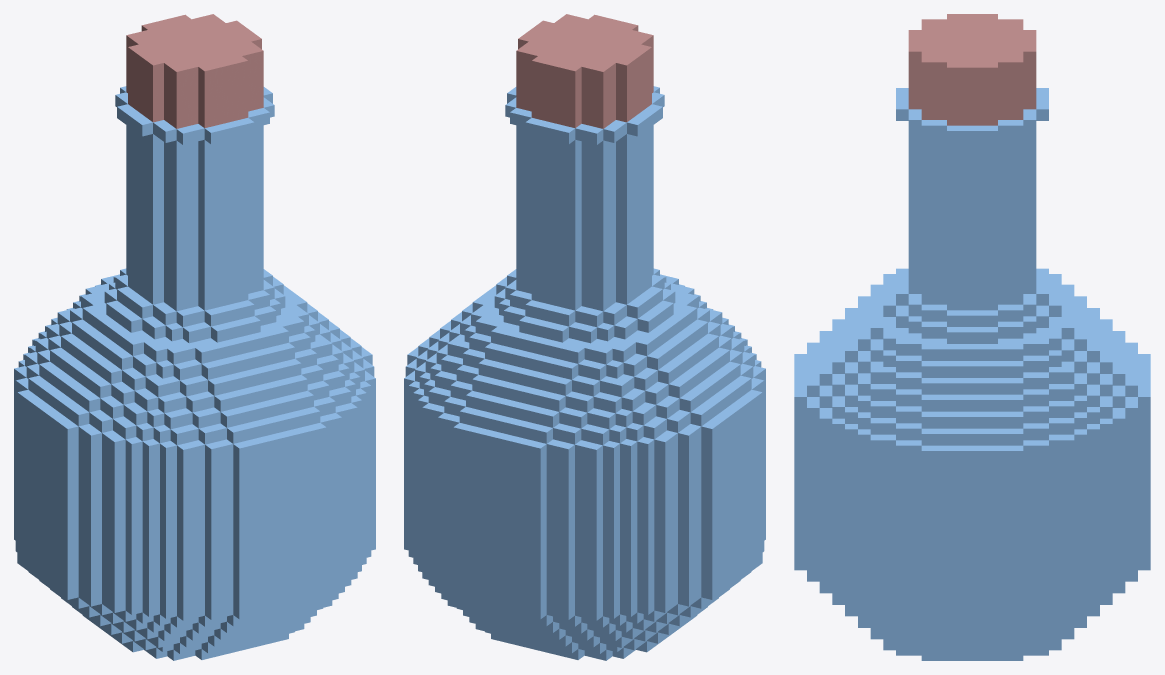
Rendered from chem3.obj.
The picture shows the model from 3 angles, left to right: view 1: azimuth 30°, elevation 25°; view 2: azimuth 150°, elevation 25°; view 3: azimuth 270°, elevation 25°; orthographic projection.
Bounding box in the file's own units: 2.8 × 5 × 2.8.
Materials: 1 (1 with a texture image).
